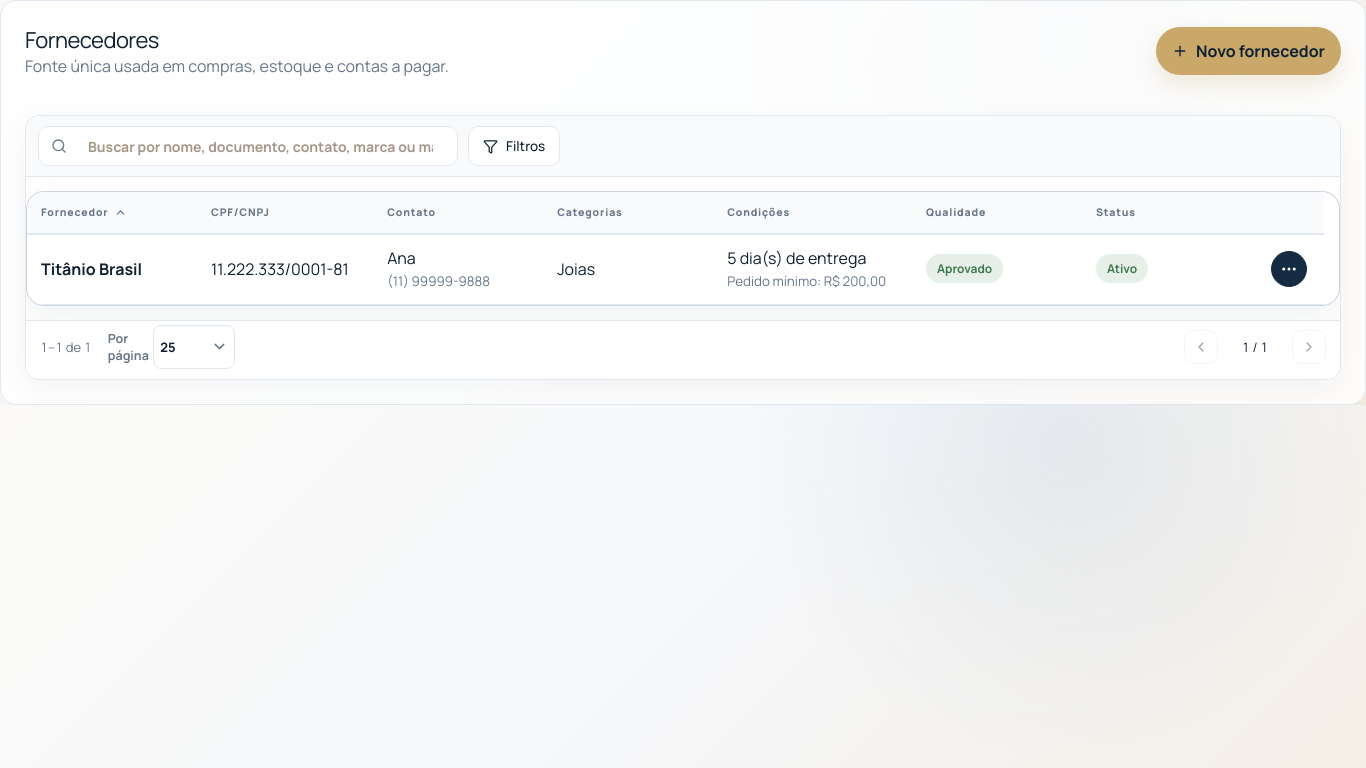
Scenario: cadastro de fornecedores › lista responsivamente e abre o fluxo com campos essenciais primeiro
The width and height of the screenshot is (1366, 768).
Expected: the text "Titânio Brasil" is shown, [41,258,142,280]
Expected: the text "11.222.333/0001-81" is shown, [211,258,359,280]
Click the button "Novo fornecedor" at (1249, 51), box [1156,27,1341,75]
(page scrolled)
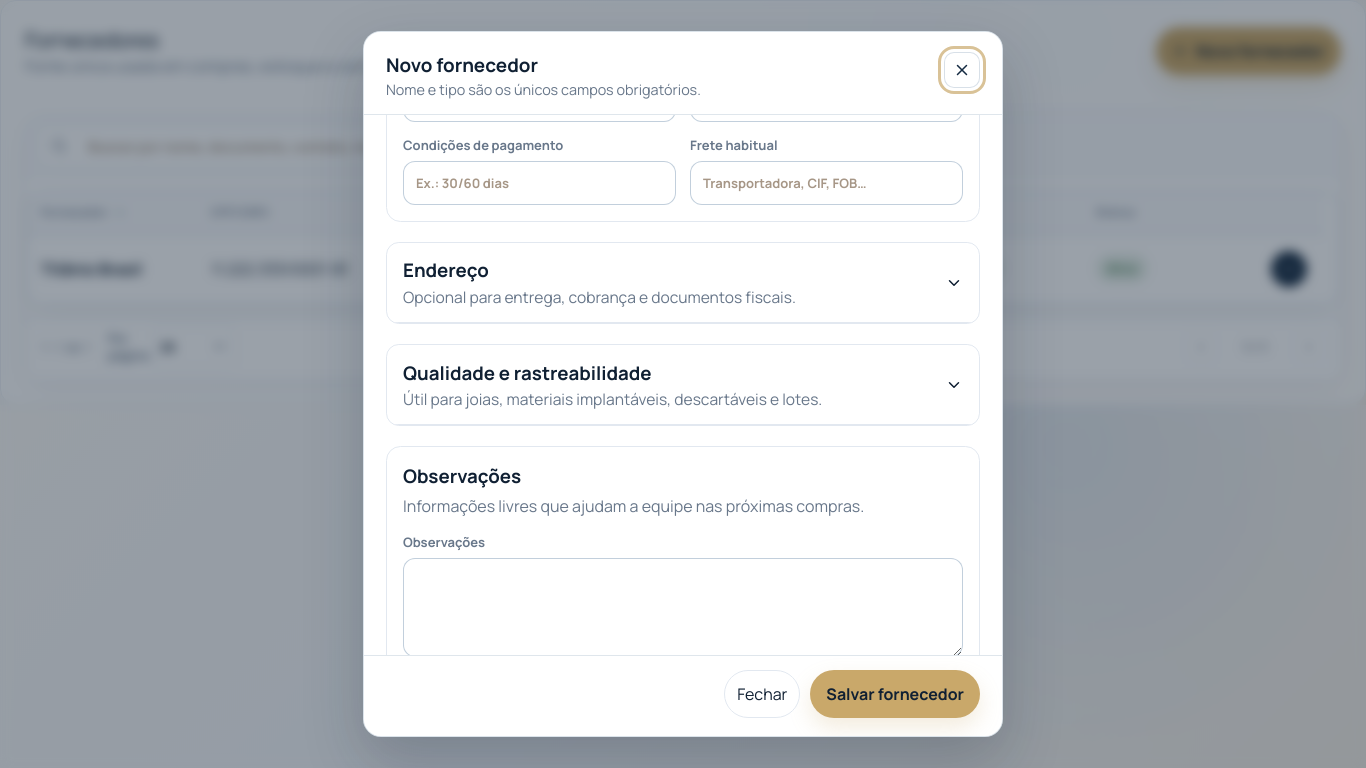
Expected: the button "Endereço" is shown, [387,243,979,322]
Expected: the button "Qualidade e rastreabilidade" is shown, [387,345,979,424]
